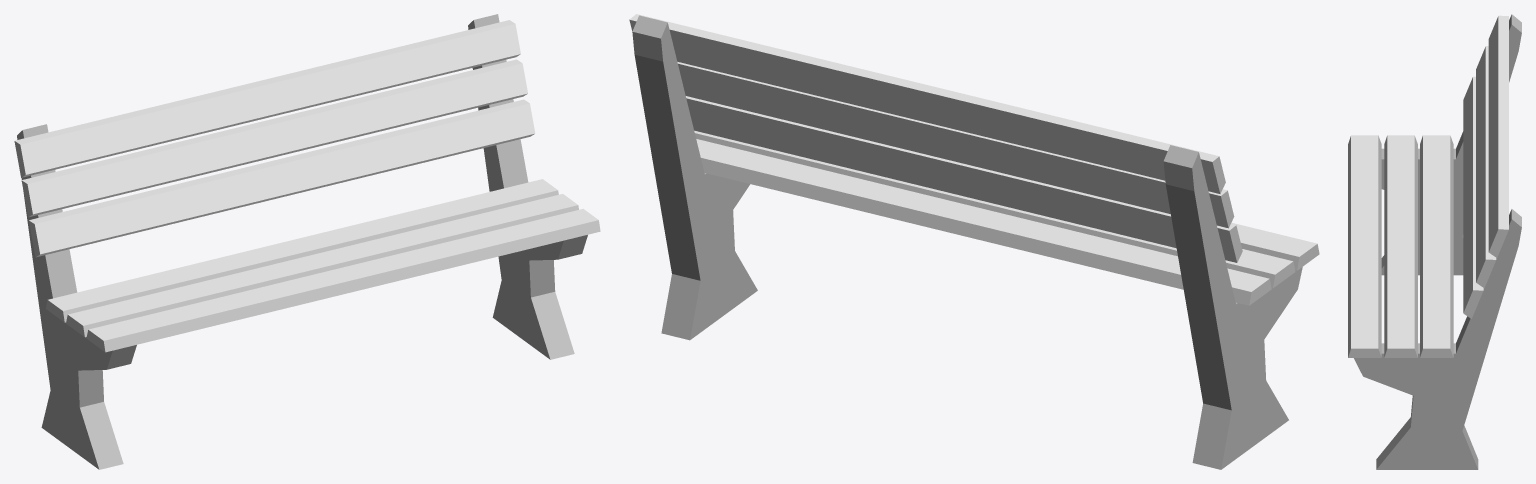
File: dprop_parkBench.fbx
3 views of the same model, side by side, from view 1: azimuth 30°, elevation 25°; view 2: azimuth 150°, elevation 25°; view 3: azimuth 270°, elevation 25° (orthographic). The views are drawn at different scales.
Parts seen in each view (by area): view 1: ParkBench; view 2: ParkBench; view 3: ParkBench.
Part boxes in pixels (box(x1,y1,x2,y2)): ParkBench: box(14, 14, 600, 469); ParkBench: box(629, 14, 1319, 469); ParkBench: box(1348, 14, 1521, 469).
Bounding box in the file's own units: 153 × 52.57 × 83.7.
